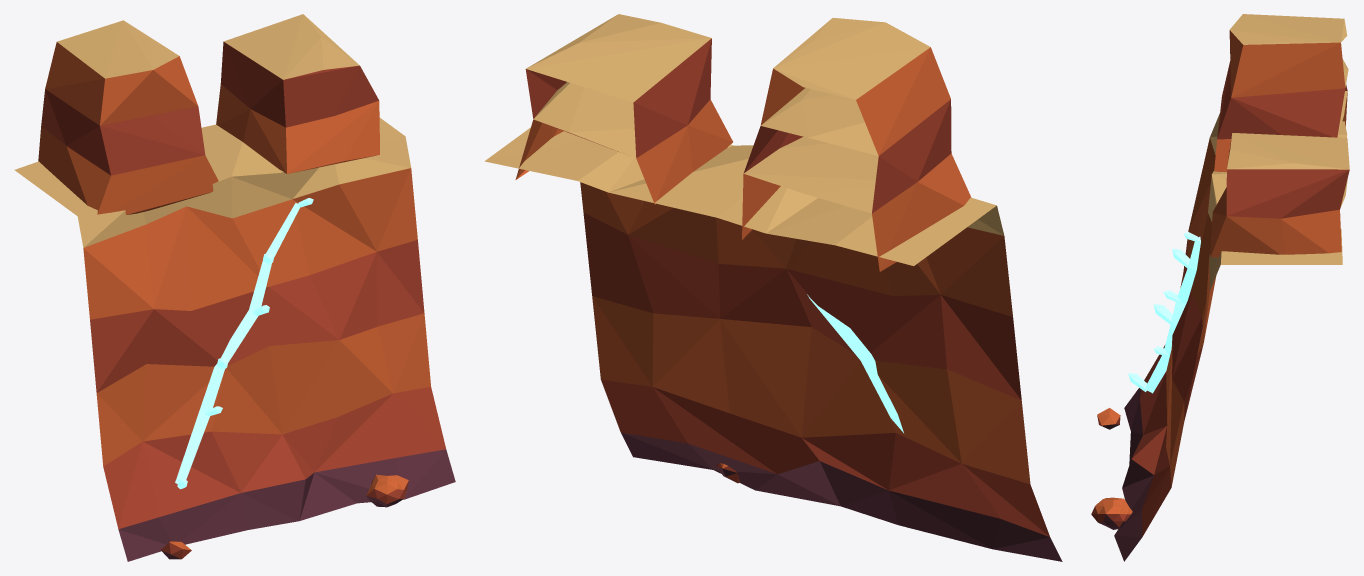
Rendered from Mtn_Wall_C.fbx.
The picture shows the model from 3 angles, left to right: view 1: azimuth 30°, elevation 25°; view 2: azimuth 150°, elevation 25°; view 3: azimuth 270°, elevation 25°; orthographic projection. The views are drawn at different scales.
Parts seen in each view (by area): view 1: Mtn_Wall_C_Body, Mtn_Wall_C_Crystal_Vein; view 2: Mtn_Wall_C_Body, Mtn_Wall_C_Crystal_Vein; view 3: Mtn_Wall_C_Body, Mtn_Wall_C_Crystal_Vein.
Part boxes in pixels (<box>): Mtn_Wall_C_Body: <box>14,14,455,561</box>; Mtn_Wall_C_Crystal_Vein: <box>175,198,313,489</box>; Mtn_Wall_C_Body: <box>484,14,1062,561</box>; Mtn_Wall_C_Crystal_Vein: <box>807,294,903,432</box>; Mtn_Wall_C_Body: <box>1091,14,1349,561</box>; Mtn_Wall_C_Crystal_Vein: <box>1128,232,1200,393</box>.
Size of the model in its own units: 20 by 25.23 by 14.2.
